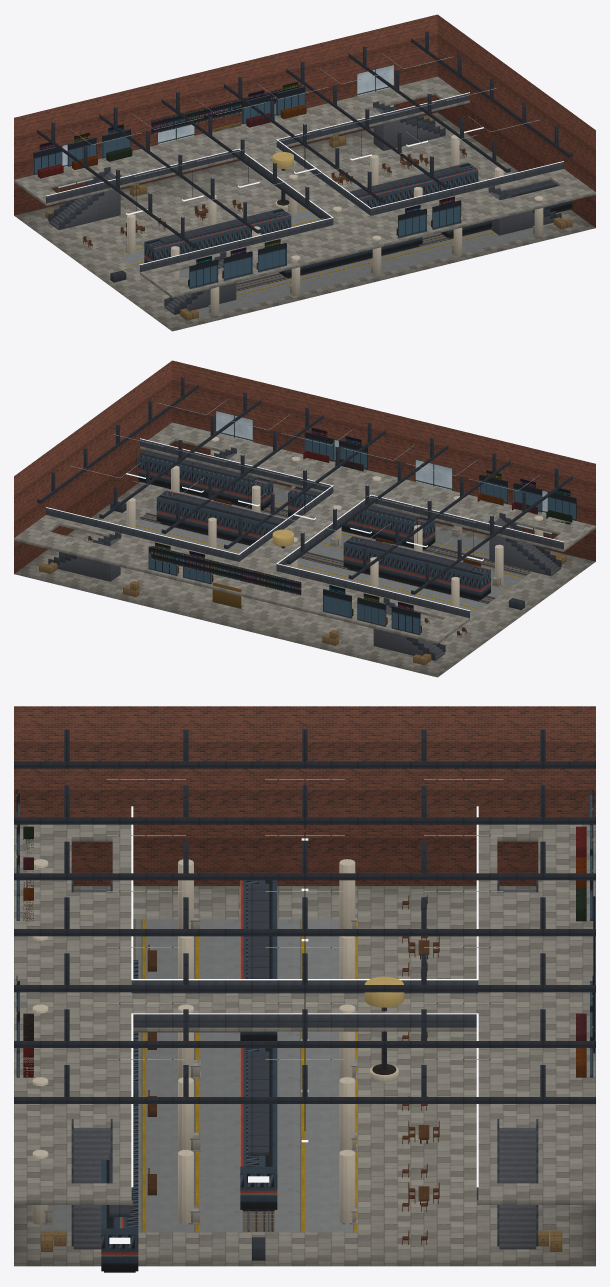
The model's file is station.glb.
3 renders of one model, top to bottom at view 1: azimuth 30°, elevation 25°; view 2: azimuth 150°, elevation 25°; view 3: azimuth 270°, elevation 25°, orthographic. The views are drawn at different scales.
Parts seen in each view (by area): view 1: Map; view 2: Map; view 3: Map.
Boxes of the visible parts, left/top/right/bottom form: Map: left=14, top=14, right=595, bottom=331; Map: left=14, top=360, right=595, bottom=677; Map: left=14, top=706, right=595, bottom=1272.
Size of the model in its own units: 70.07 by 15 by 44.
20 materials, 19 textured.
